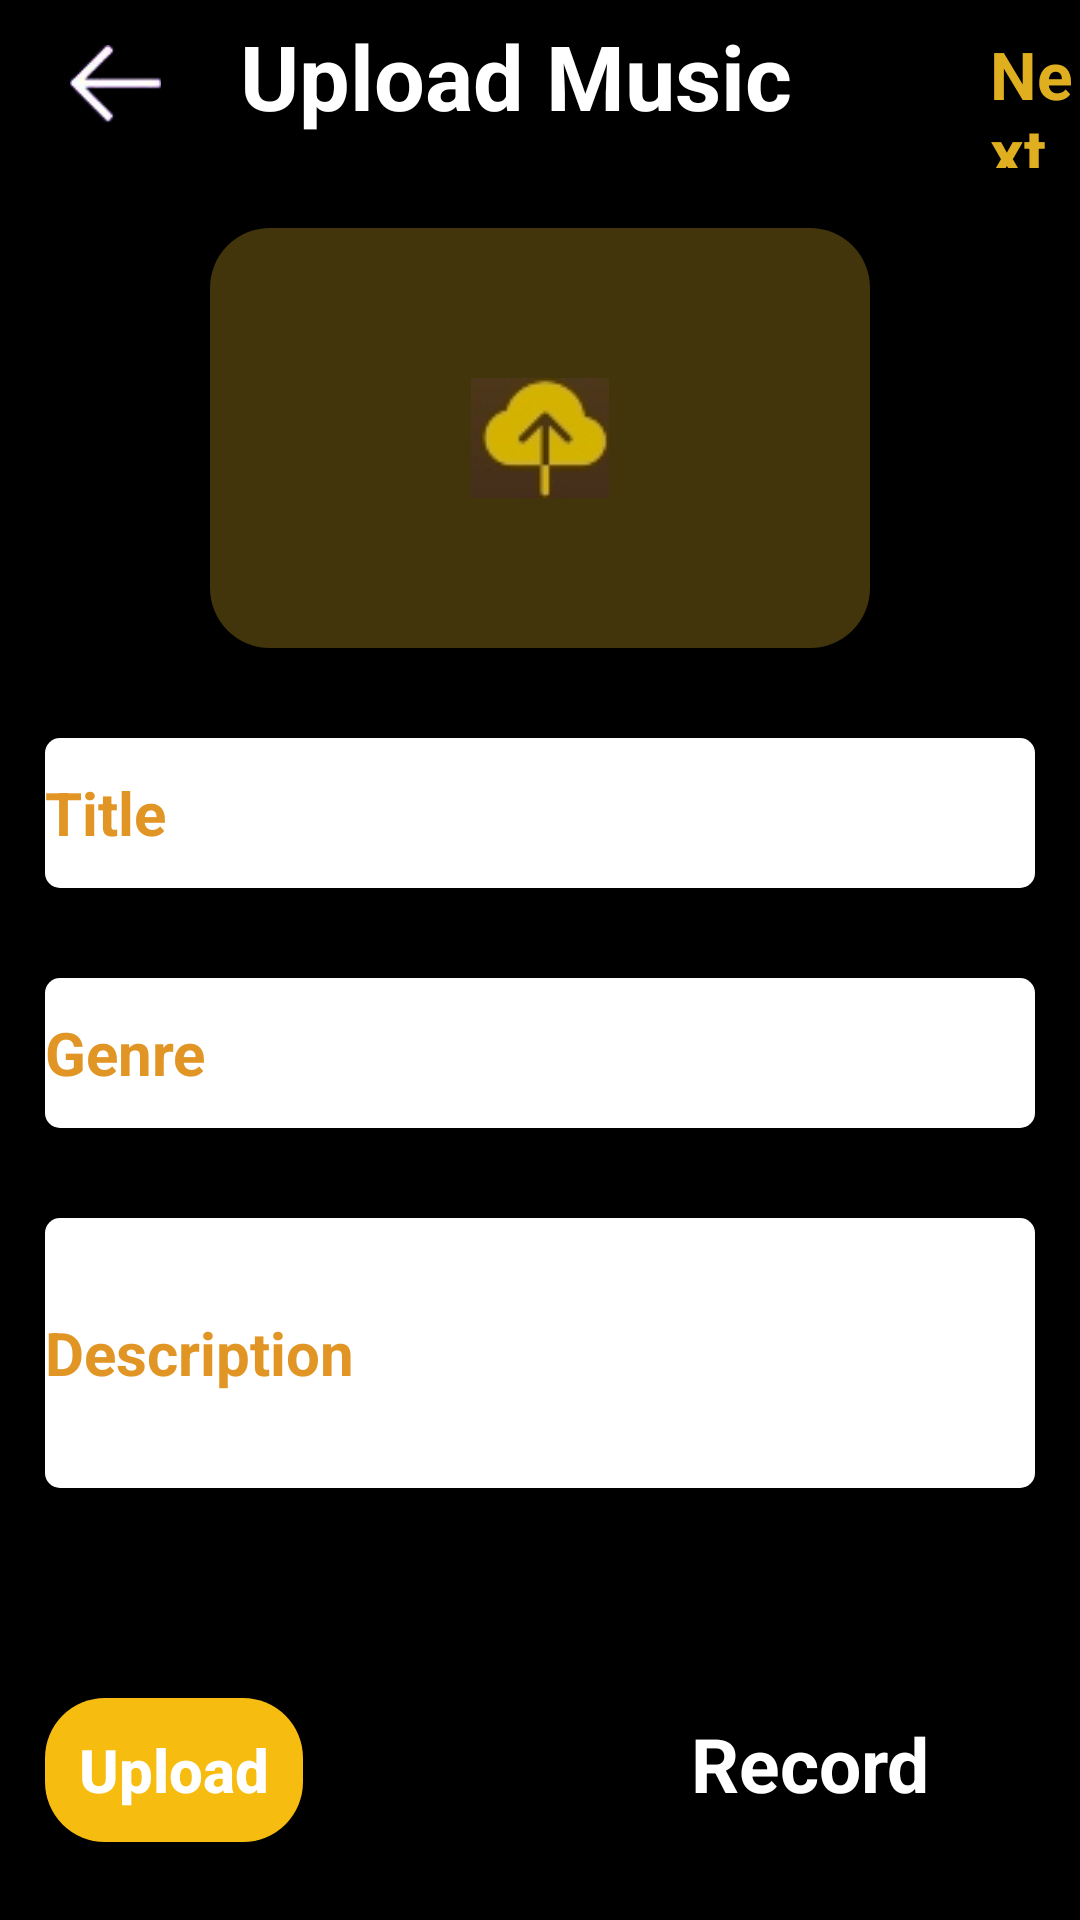

Screen size 1080 × 1920. Icon name, then its box in pixels as (x1, y1, x2, y2):
back: (70, 45, 161, 122)
